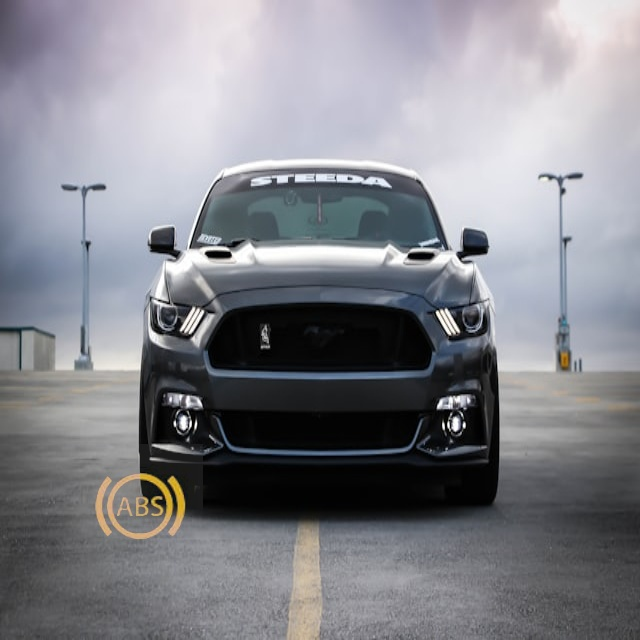symbol: (76, 444, 203, 571)
